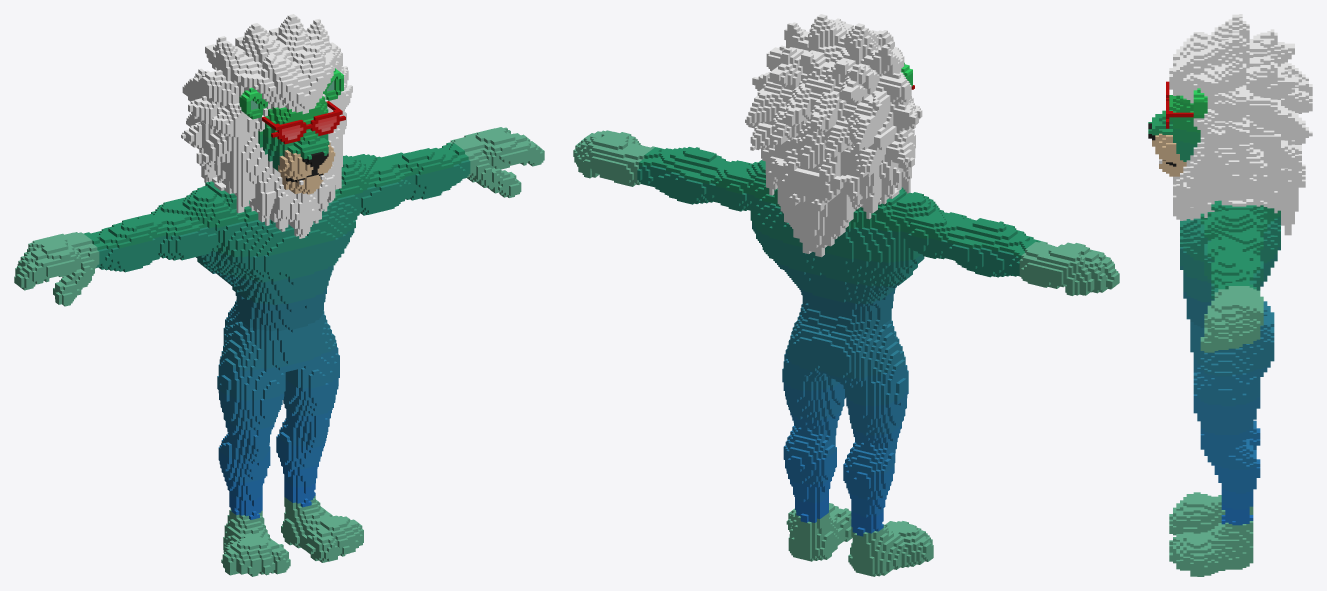
The model's file is 834-BfBRd-Gi.glb.
3 views of the same model, side by side, from view 1: azimuth 30°, elevation 25°; view 2: azimuth 150°, elevation 25°; view 3: azimuth 270°, elevation 25° (orthographic). The views are drawn at different scales.
Visible parts, largest first — view 1: standard; view 2: standard; view 3: standard.
Part boxes in pixels (x1,y1,x2,y2): standard: [14, 14, 544, 576]; standard: [573, 14, 1119, 576]; standard: [1148, 14, 1312, 576].
Size of the model in its own units: 17.2 by 16.5 by 4.7.
4 materials, 4 textured.
